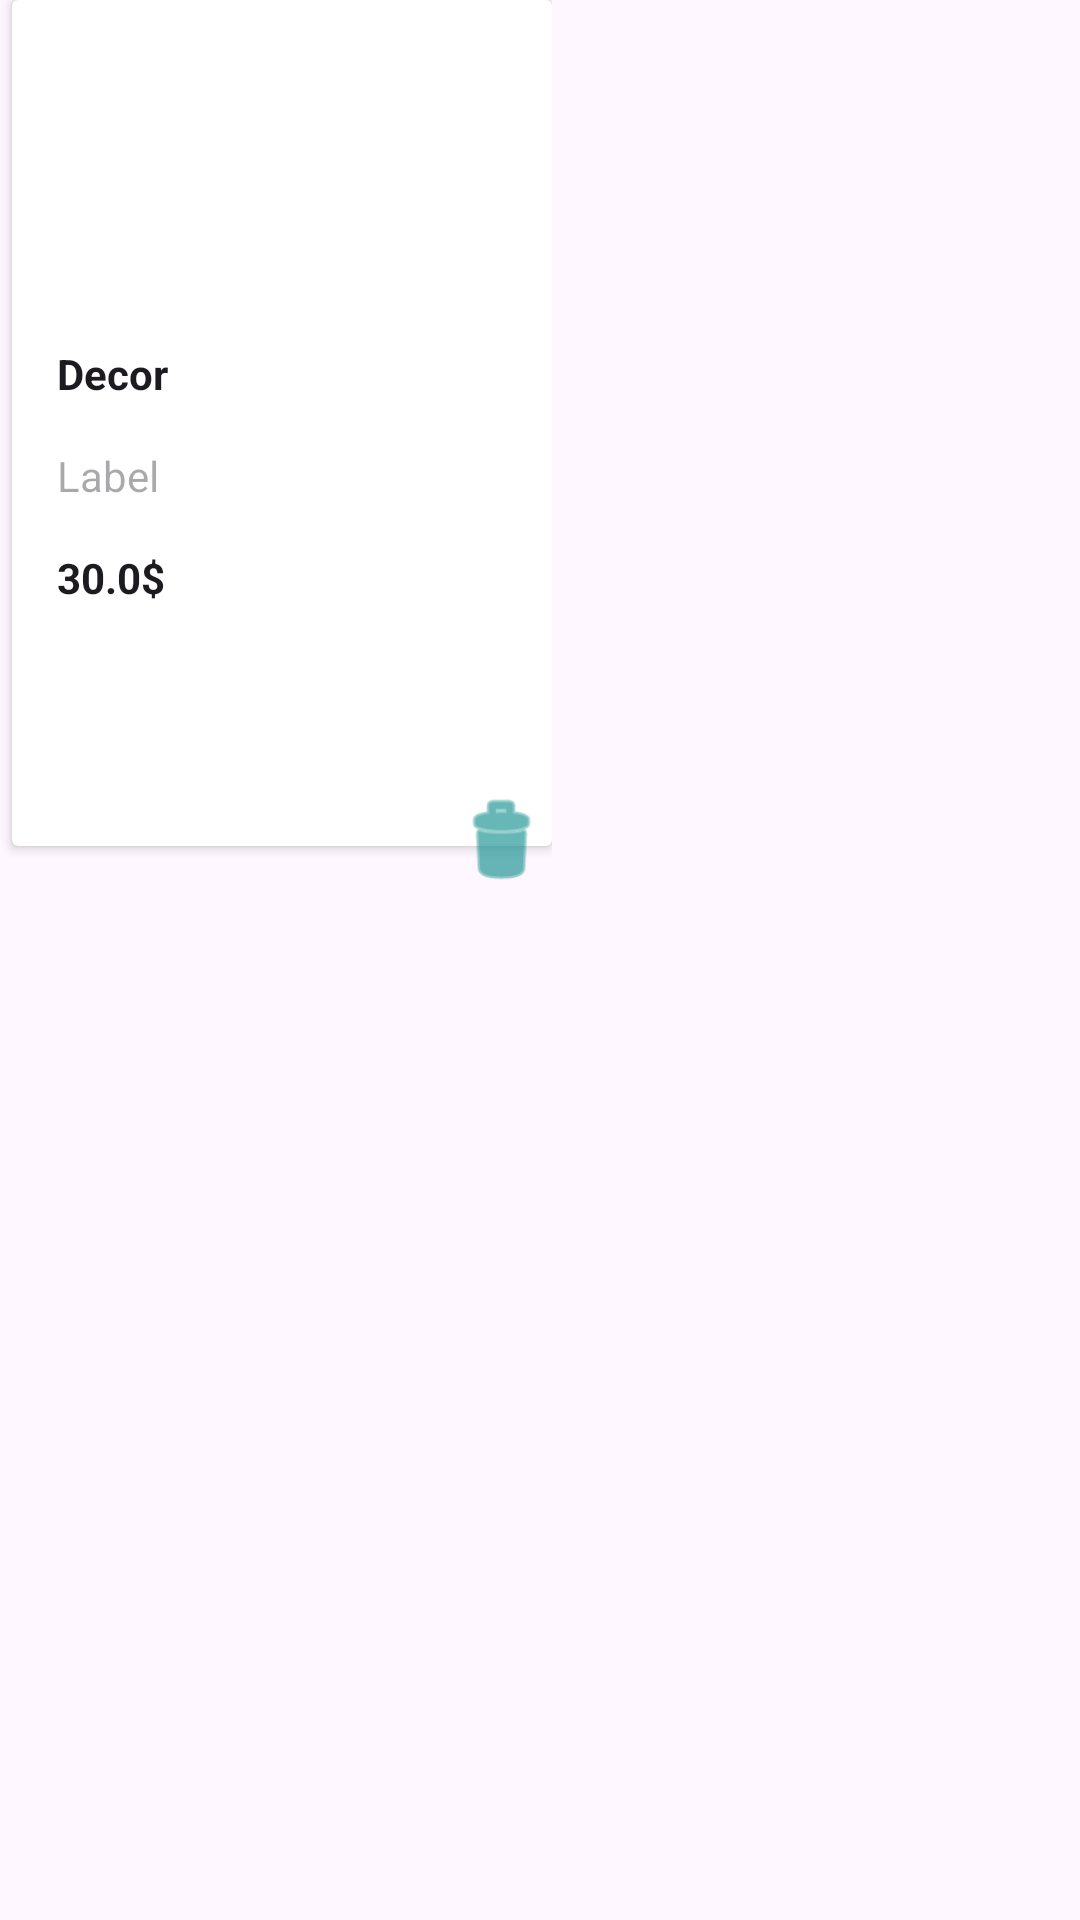

Icons on this 1080×1920 Android screen, each with its box as (x1, y1, x2, y2):
delete: (450, 799, 552, 879)
